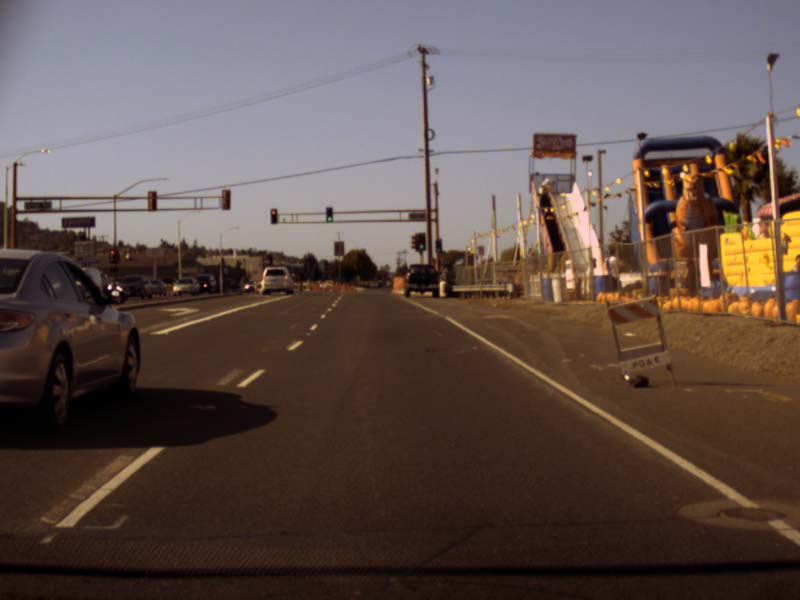Green: (418, 233, 423, 249), (326, 206, 331, 221), (437, 239, 440, 252)
Red: (109, 249, 115, 262), (271, 208, 276, 223)
